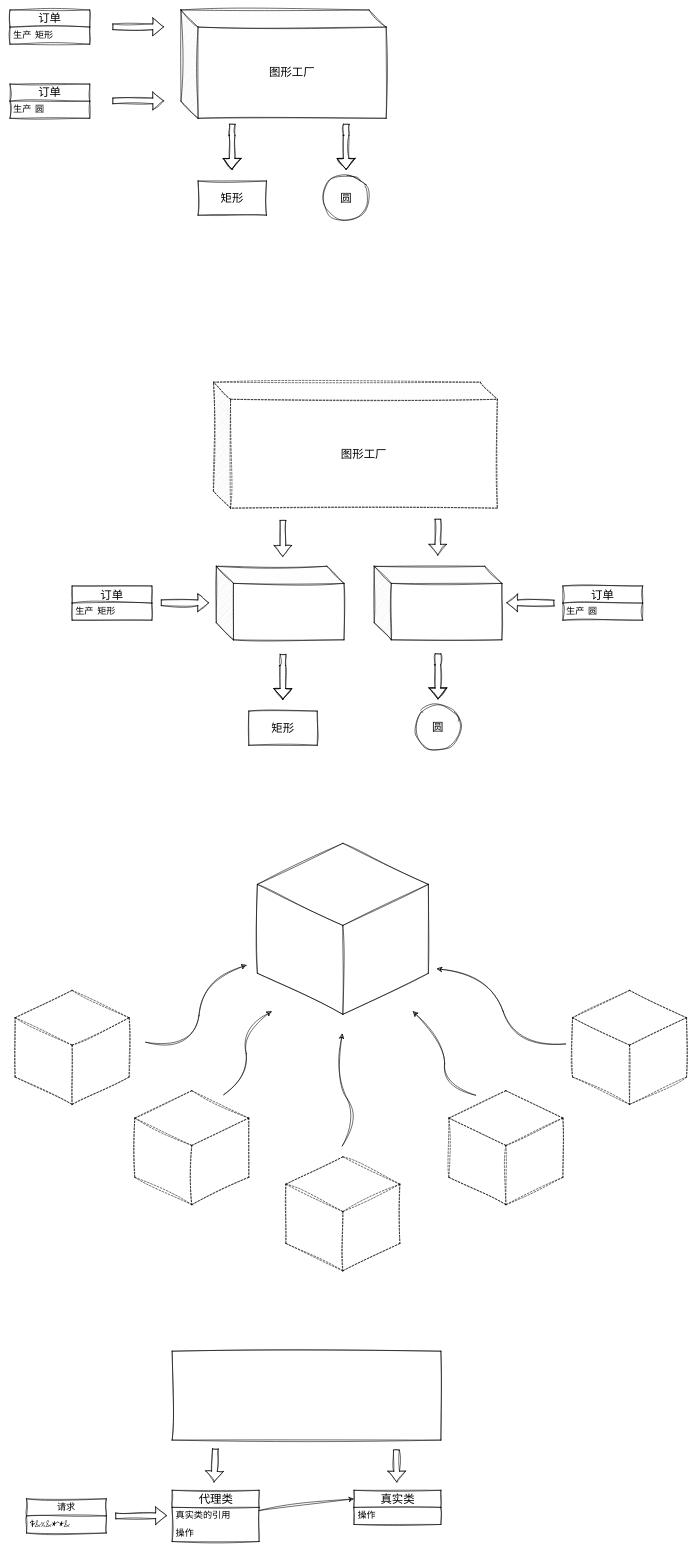
This 697x1552 diagram has some shape labels left out. Here are the shapes that lost their labels. From the top down, the centre of each, then its label:
point (280, 603): 矩形工厂
point (438, 603): 圆工厂
point (306, 1395): 父类
